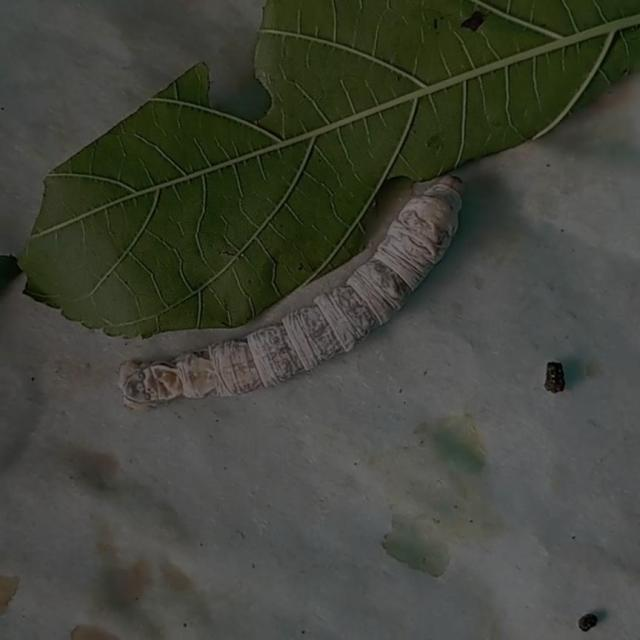Grasserie: (122, 160, 468, 418)
